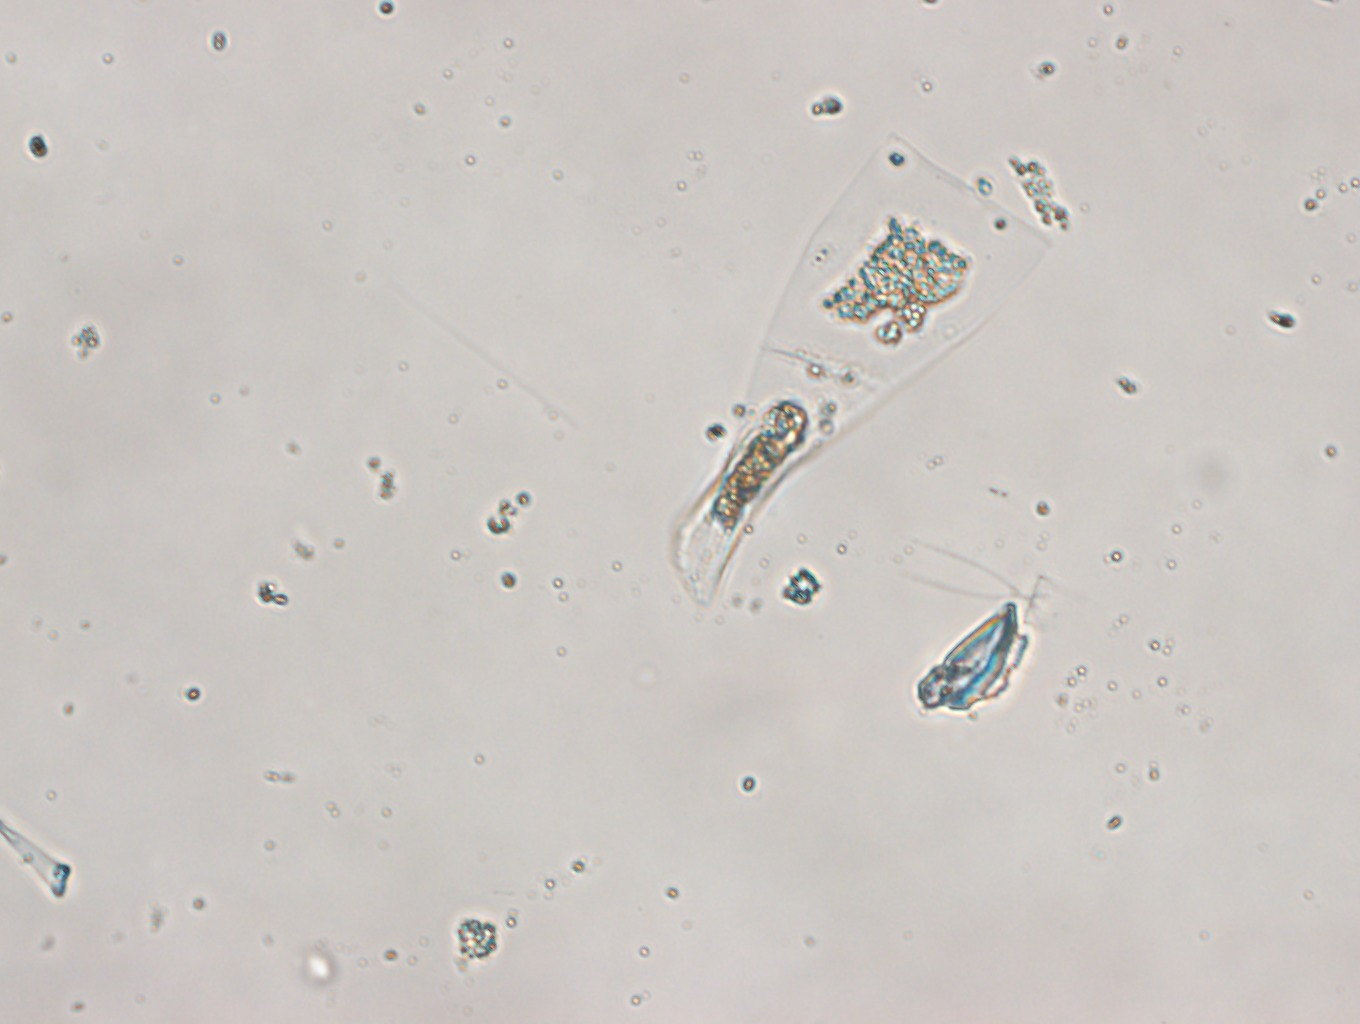helicotheca: (670, 136, 1050, 608)
